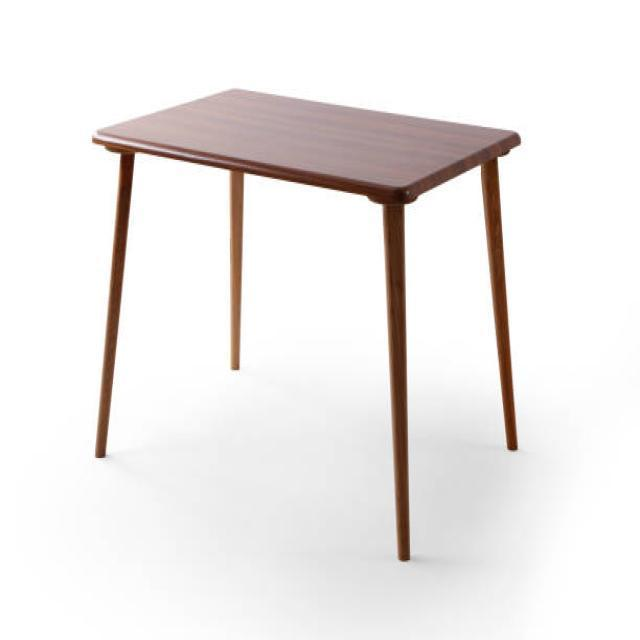table: (91, 84, 521, 562)
